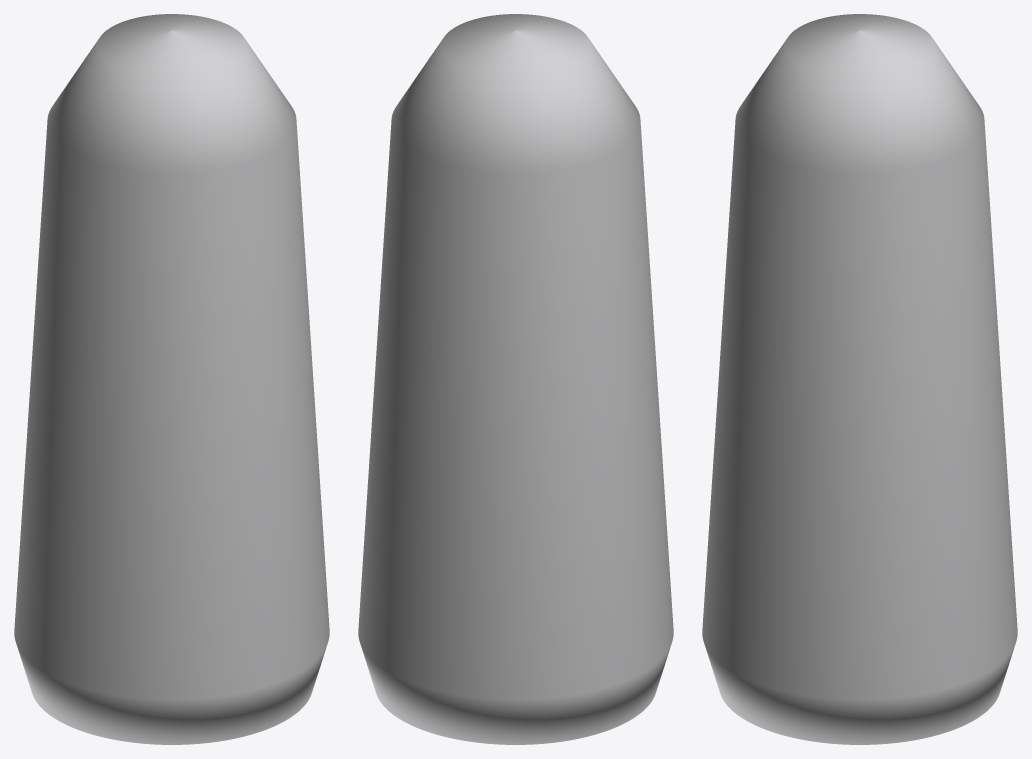
File: white-ampoule-lid.glb
3 views of the same model, side by side, from view 1: azimuth 30°, elevation 25°; view 2: azimuth 150°, elevation 25°; view 3: azimuth 270°, elevation 25° (orthographic).
Size of the model in its own units: 0.38 by 0.87 by 0.38.
1 material, 1 textured.
